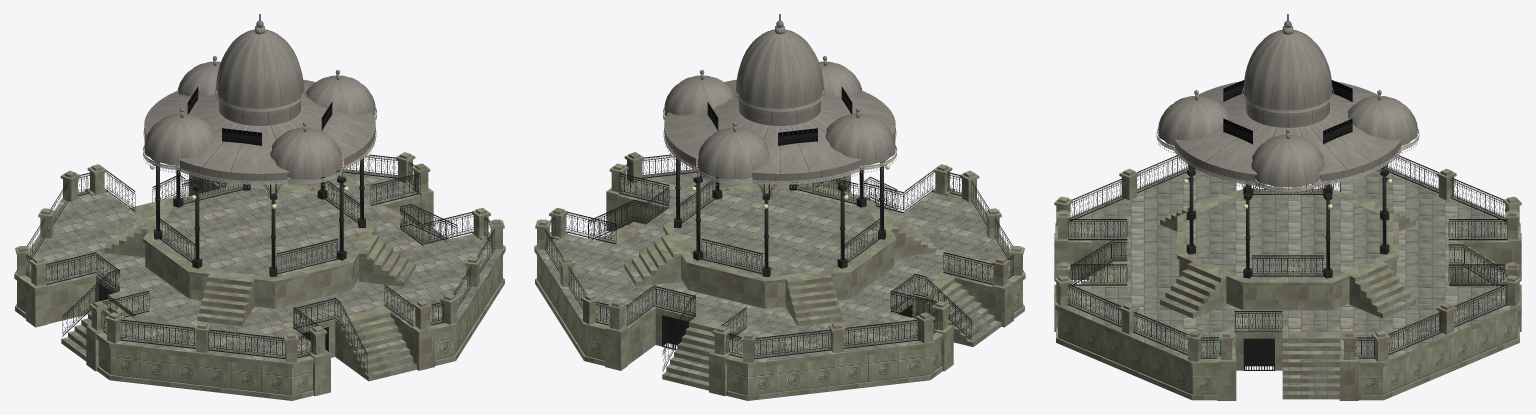
The model's file is kiosco.obj.
3 views of the same model, side by side, from view 1: azimuth 30°, elevation 25°; view 2: azimuth 150°, elevation 25°; view 3: azimuth 270°, elevation 25° (orthographic).
Visible parts, largest first — view 1: kiosco; view 2: kiosco; view 3: kiosco.
Boxes of the visible parts, x1=… form: kiosco: x1=14, y1=14, x2=505, y2=400; kiosco: x1=534, y1=14, x2=1025, y2=400; kiosco: x1=1054, y1=14, x2=1521, y2=400.
Size of the model in its own units: 17.88 by 12.15 by 17.88.
